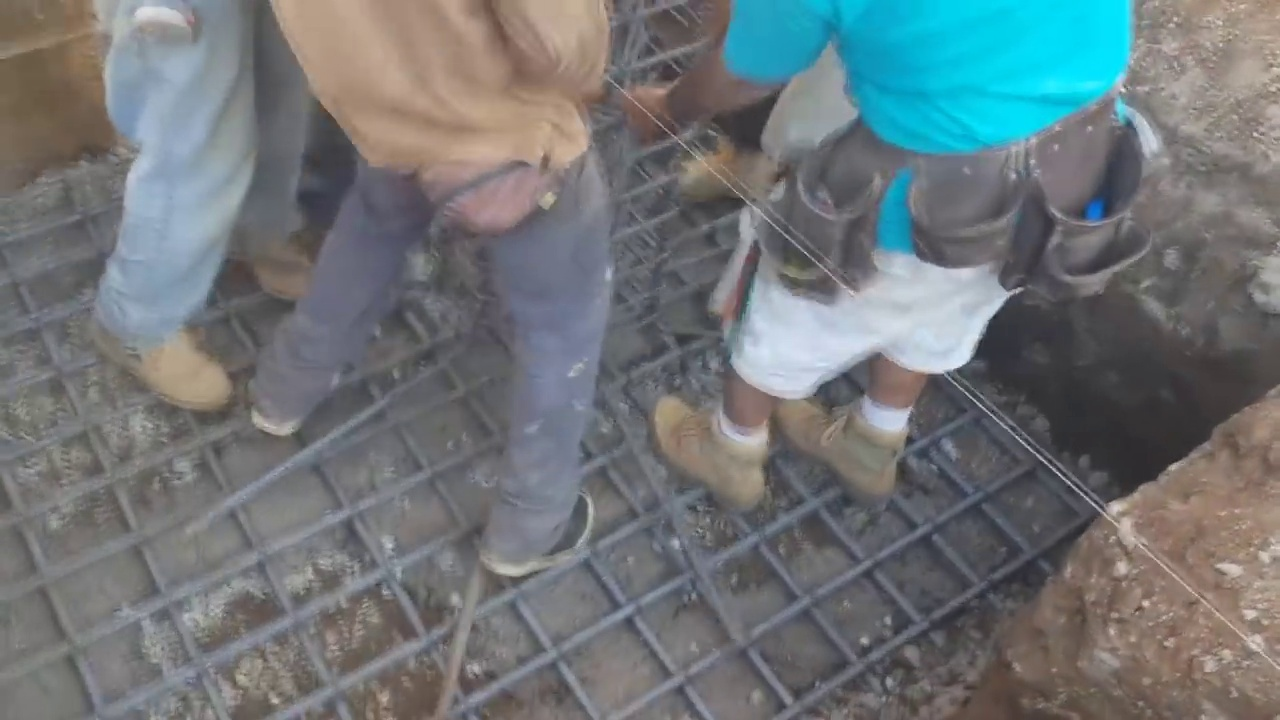person: (193, 0, 688, 547), (662, 0, 1141, 518), (72, 0, 299, 445), (614, 0, 834, 226)
